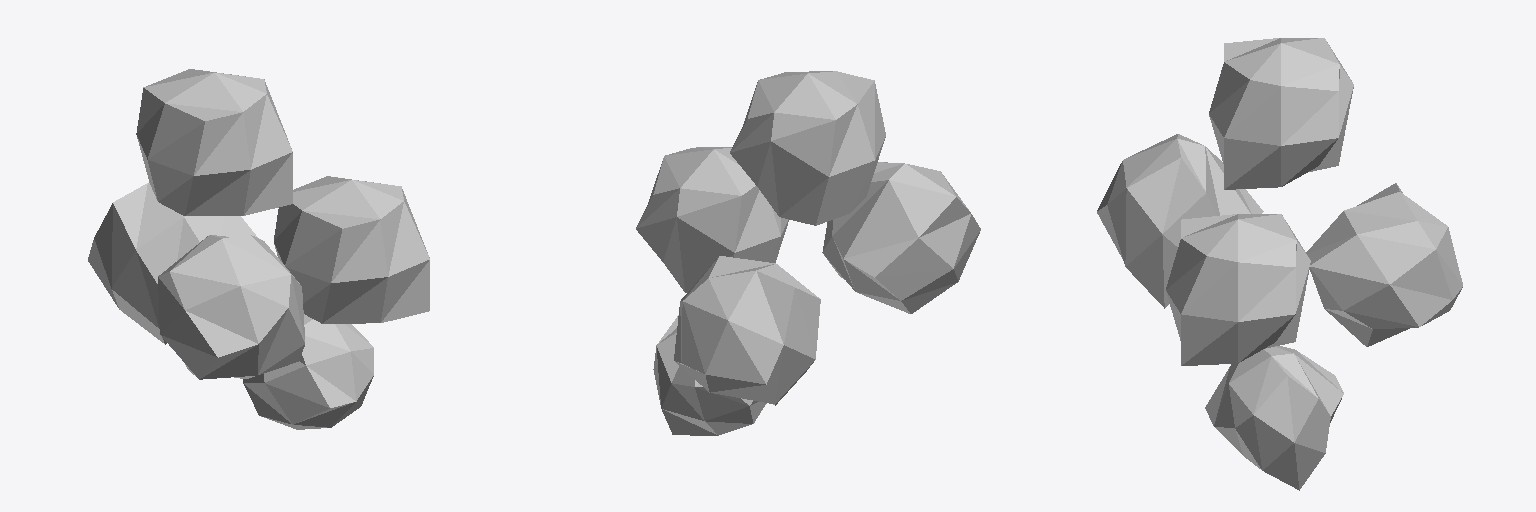
Rendered from smallblob.obj.
3 views of the same model, side by side, from view 1: azimuth 30°, elevation 25°; view 2: azimuth 150°, elevation 25°; view 3: azimuth 270°, elevation 25° (orthographic).
Visible parts, largest first — view 1: Cube.003_Cube.004; view 2: Cube.003_Cube.004; view 3: Cube.003_Cube.004.
Part boxes in pixels (x1,y1,x2,y2): Cube.003_Cube.004: (88,69,429,429); Cube.003_Cube.004: (636,71,980,435); Cube.003_Cube.004: (1097,38,1462,490).
Bounding box in the file's own units: 0.5675 × 0.7427 × 0.6397.